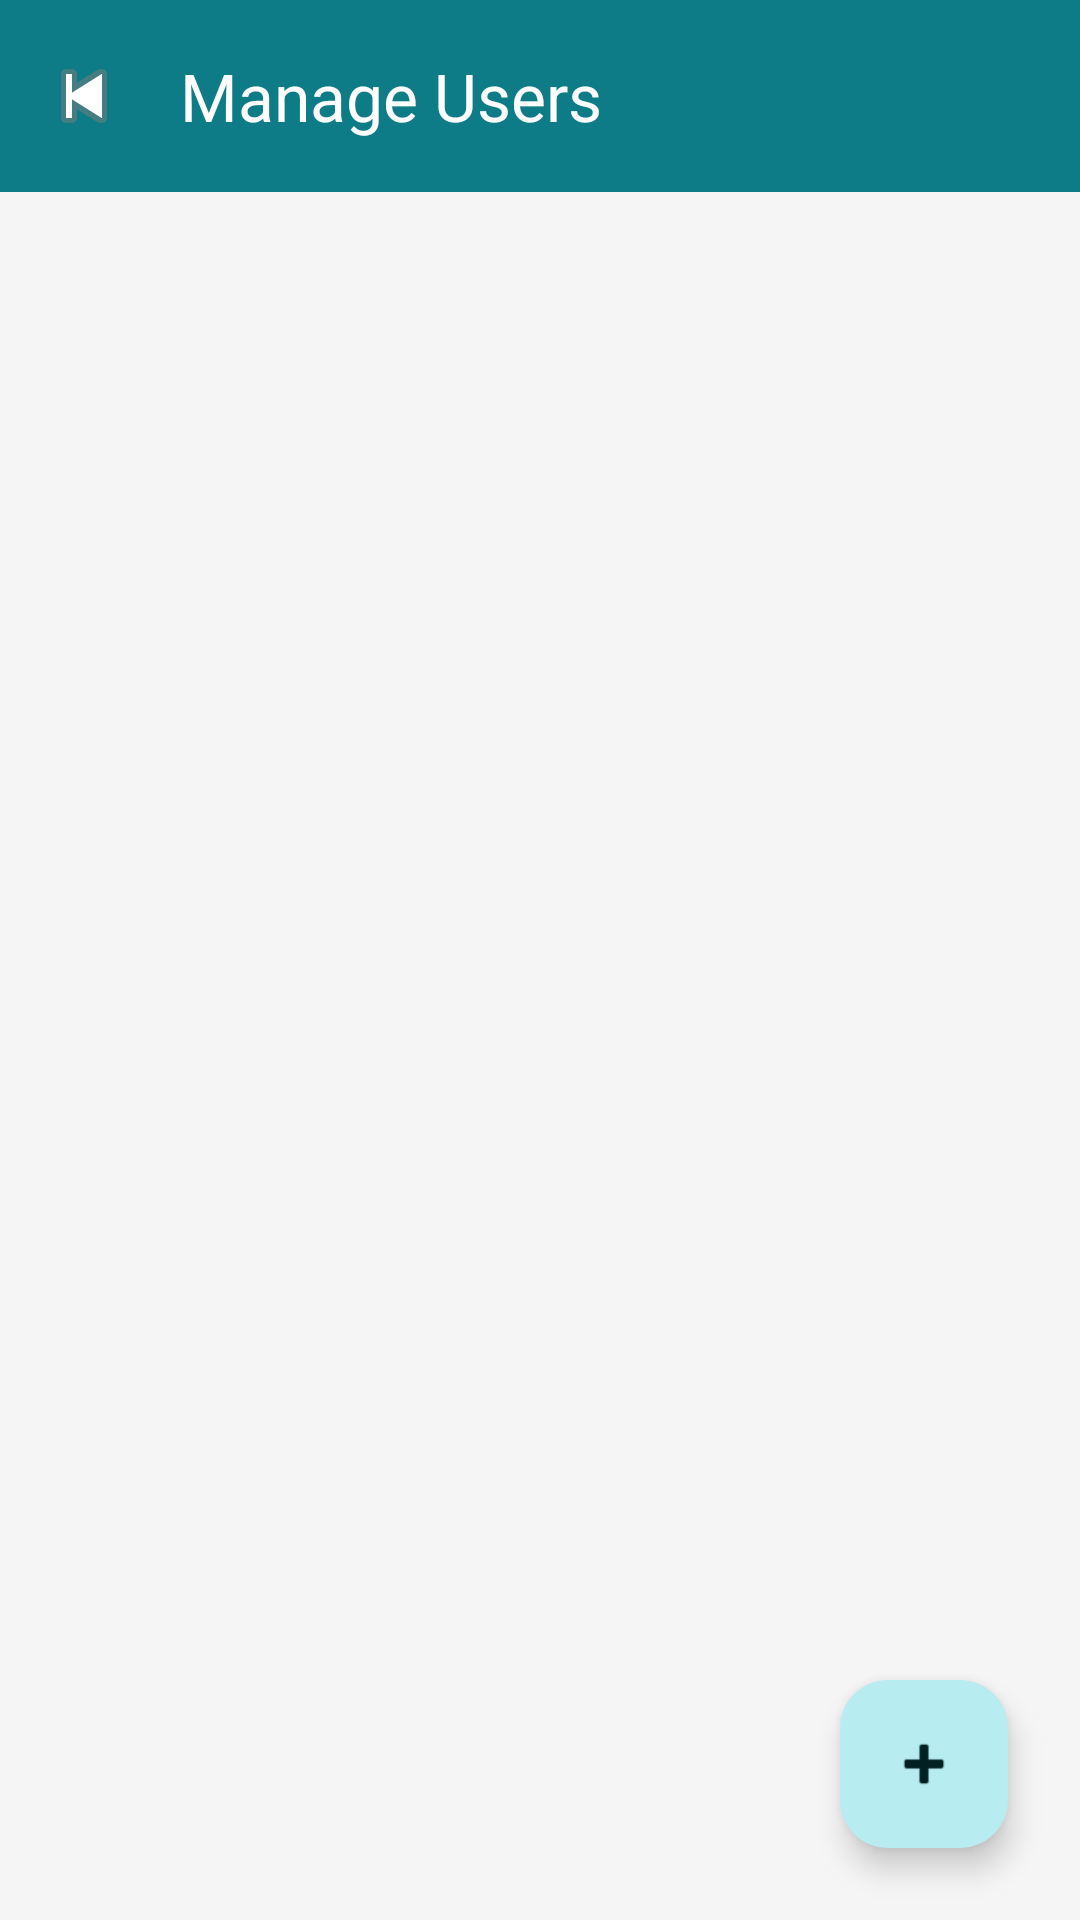

Where to tap for icons on this 1080 × 1920 app screen, as point (x, y):
Add User: point (924, 1764)
